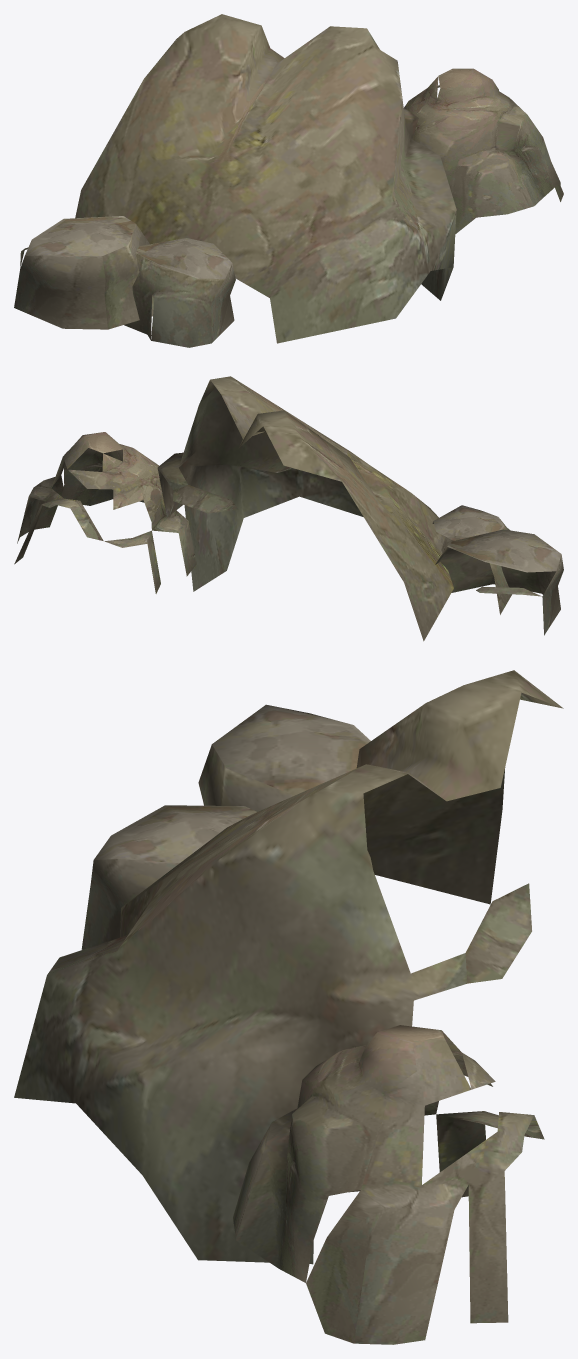
3 views of the same model, one above another, from view 1: azimuth 30°, elevation 25°; view 2: azimuth 150°, elevation 25°; view 3: azimuth 270°, elevation 25° (orthographic). The views are drawn at different scales.
Parts seen in each view (by area): view 1: Mesh_11; view 2: Mesh_11; view 3: Mesh_11.
Boxes of the visible parts, box(x1,y1,x2,y2) form: Mesh_11: box(14, 14, 563, 347); Mesh_11: box(14, 376, 563, 641); Mesh_11: box(14, 670, 563, 1344).
Size of the model in its own units: 2.1 by 0.9169 by 1.
